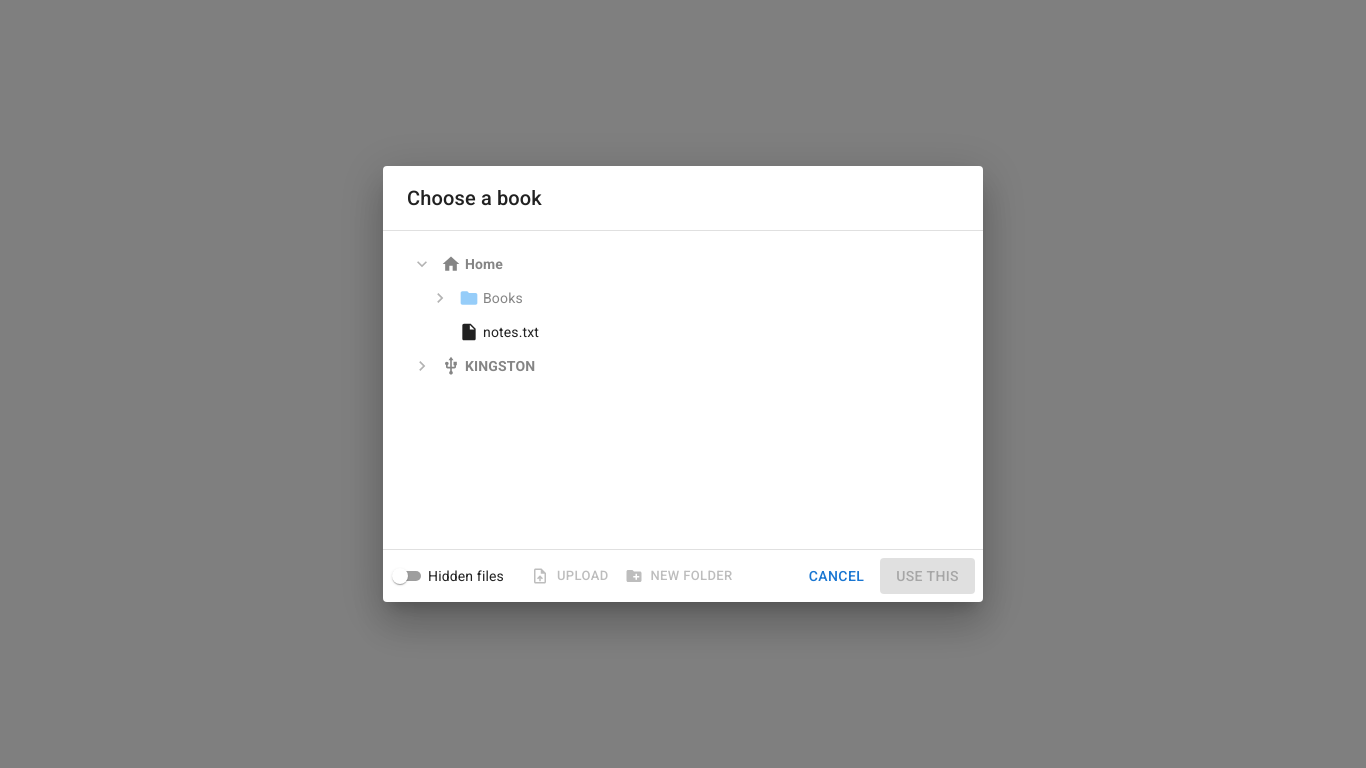
Test: what it will not accept › says a folder is a folder, and keeps the button off
Click the text "Books" at (503, 298), box [483,288,523,308]
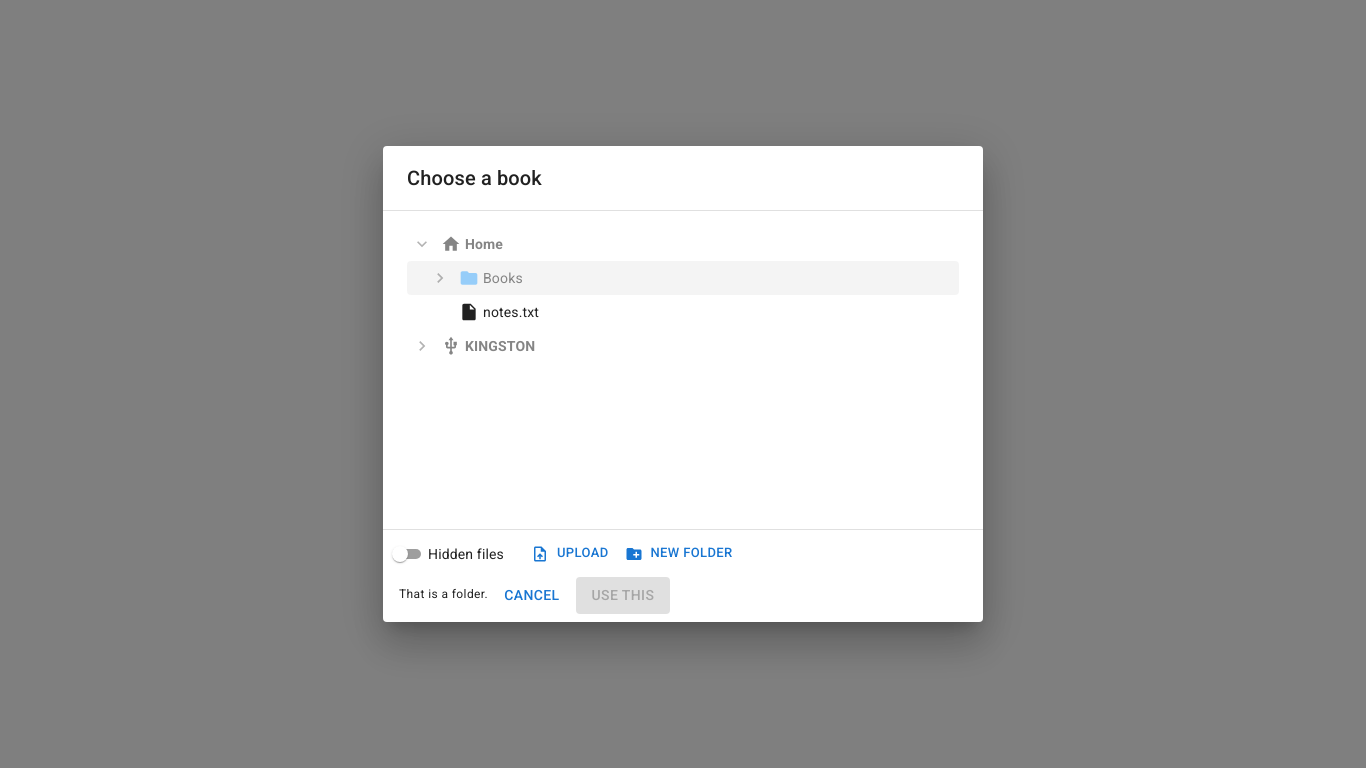
Expected: the button "Use this" is disabled, [576,577,670,614]
Now the text "That is a folder." is shown, box [399,585,488,605]
